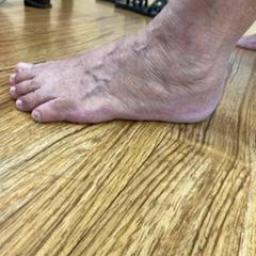Lateral View -Left Foot-: (1, 14, 243, 150)
